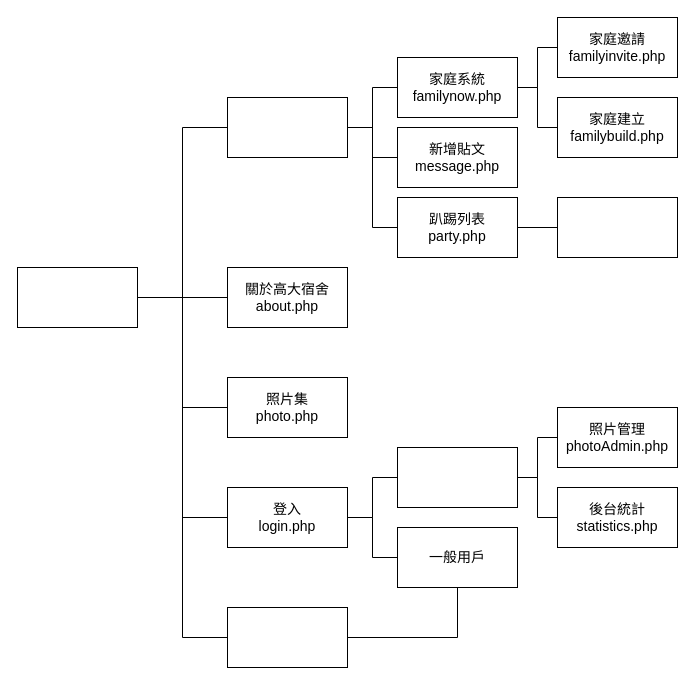
Some shapes in this 695 by 685 pixel diagram are drawn without their labels. Here are the shapes that lost their labels. From the top down, the box of each, then its label:
(226, 96, 348, 158): 宿舍大小事 showarticle.php
(556, 196, 678, 258): 我要開趴 openparty.php
(16, 266, 138, 328): 首頁 index.php
(396, 446, 518, 508): 管理員
(226, 606, 348, 668): 註冊 signup.php
